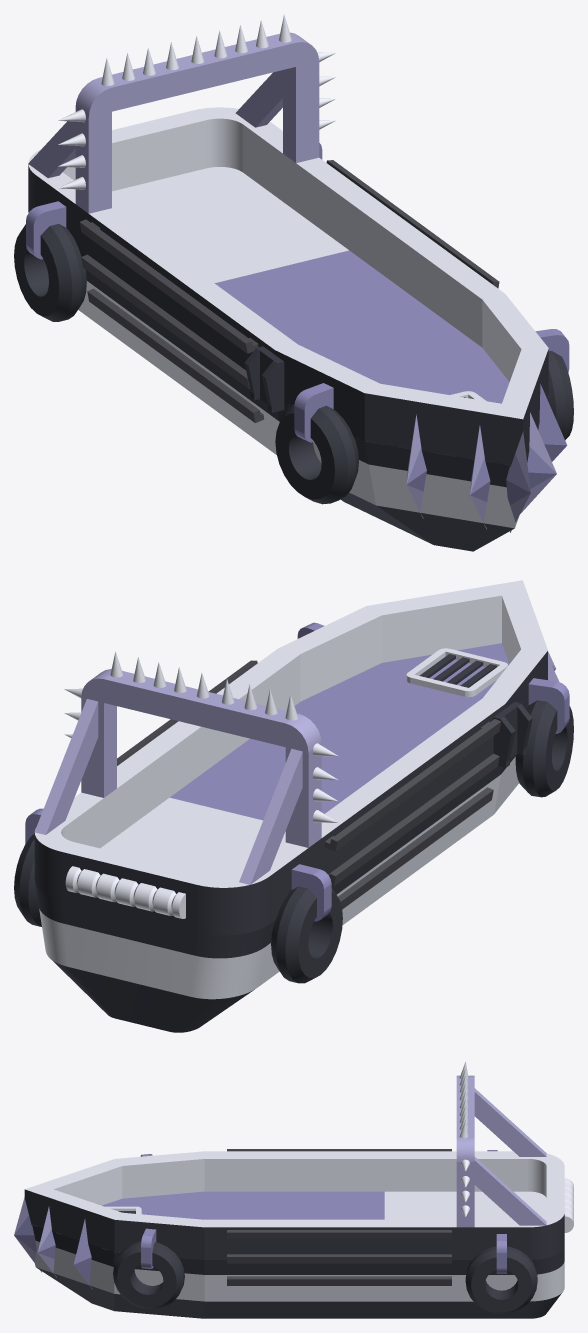
Rendered from boat medium.fbx.
3 renders of one model, top to bottom at view 1: azimuth 30°, elevation 25°; view 2: azimuth 150°, elevation 25°; view 3: azimuth 270°, elevation 25°, orthographic. The views are drawn at different scales.
Parts seen in each view (by area): view 1: hull_half, rail_back, rail_front, hull_halfBack, detail_rollbar, detail_tireAttachment (×3), hull_halfFront, rail, detail_fence_support (×4), blade_dual_top (×5), detailTargetSight; view 2: hull_halfBack, rail_back, detail_rollbar, rail_front, hull_half, detail_tireAttachment (×3), rail, detail_fence_support (×4), hull_halfFront, detail_pipeRibbed, grate_square, detailTargetSight; view 3: hull_half, rail, rail_front, rail_back, hull_halfBack, hull_halfFront, detail_fence_support (×4), detail_tireAttachment (×2), detail_rollbar, blade_dual_top (×3), detail_pipeRibbed.
Boxes of the visible parts, x1,y1,x2,y2 form: hull_half: (144,250,481,454); rail_back: (28,107,371,293); rail_front: (275,294,548,465); hull_halfBack: (78,167,348,364); detail_rollbar: (28,32,319,213); detail_tireAttachment (×3): (14,201,573,504); hull_halfFront: (277,348,548,551); rail: (142,196,504,369); detail_fence_support (×4): (79,160,499,422); blade_dual_top (×5): (406,384,567,532); detailTargetSight: (244,346,284,412); hull_halfBack: (35,797,371,1032); rail_back: (34,744,373,935); detail_rollbar: (34,669,321,884); rail_front: (278,580,547,709); hull_half: (170,701,502,910); detail_tireAttachment (×3): (14,678,573,983); rail: (147,648,505,840); detail_fence_support (×4): (117,660,501,909); hull_halfFront: (301,643,519,813); detail_pipeRibbed: (65,866,185,918); grate_square: (406,648,508,697); detailTargetSight: (493,702,532,767); hull_half: (204,1191,384,1318); rail: (204,1151,384,1259); rail_front: (24,1151,204,1259); rail_back: (384,1151,564,1259); hull_halfBack: (384,1191,564,1318); hull_halfFront: (31,1191,204,1318); detail_fence_support (×4): (227,1149,451,1285); detail_tireAttachment (×2): (113,1228,537,1313); detail_rollbar: (456,1075,546,1227); blade_dual_top (×3): (14,1197,92,1289); detail_pipeRibbed: (564,1178,573,1232).
Size of the model in its own units: 19.26 by 19.53 by 46.65.
